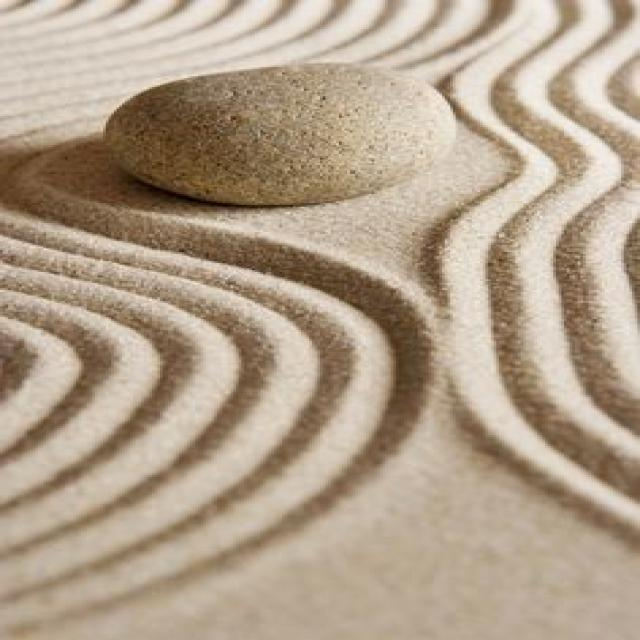stone: (102, 64, 456, 206)
white-sand: (0, 3, 640, 640)
